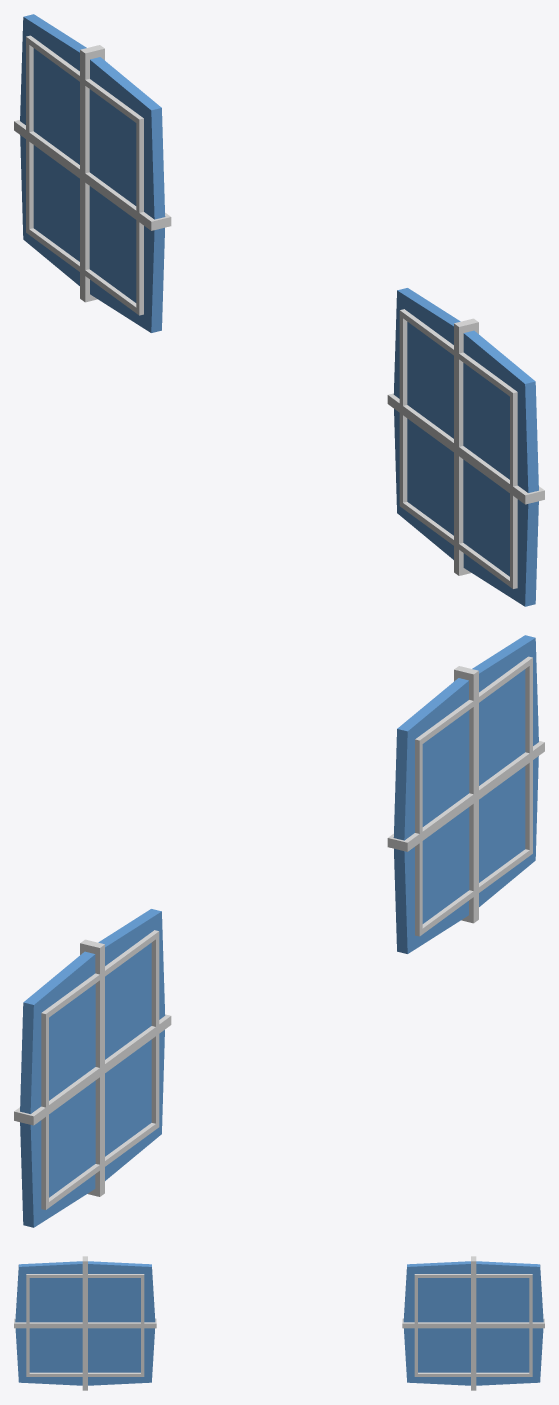
The model's file is U-Windows.fbx.
The picture shows the model from 3 angles, top to bottom: view 1: azimuth 30°, elevation 25°; view 2: azimuth 150°, elevation 25°; view 3: azimuth 270°, elevation 25°; orthographic projection. The views are drawn at different scales.
Visible parts, largest first — view 1: Cube; view 2: Cube; view 3: Cube.
Part boxes in pixels (x1,y1,x2,y2): Cube: (14,14,544,606); Cube: (14,635,544,1227); Cube: (14,1256,544,1390).
Bounding box in the file's own units: 14.28 × 171 × 638.
